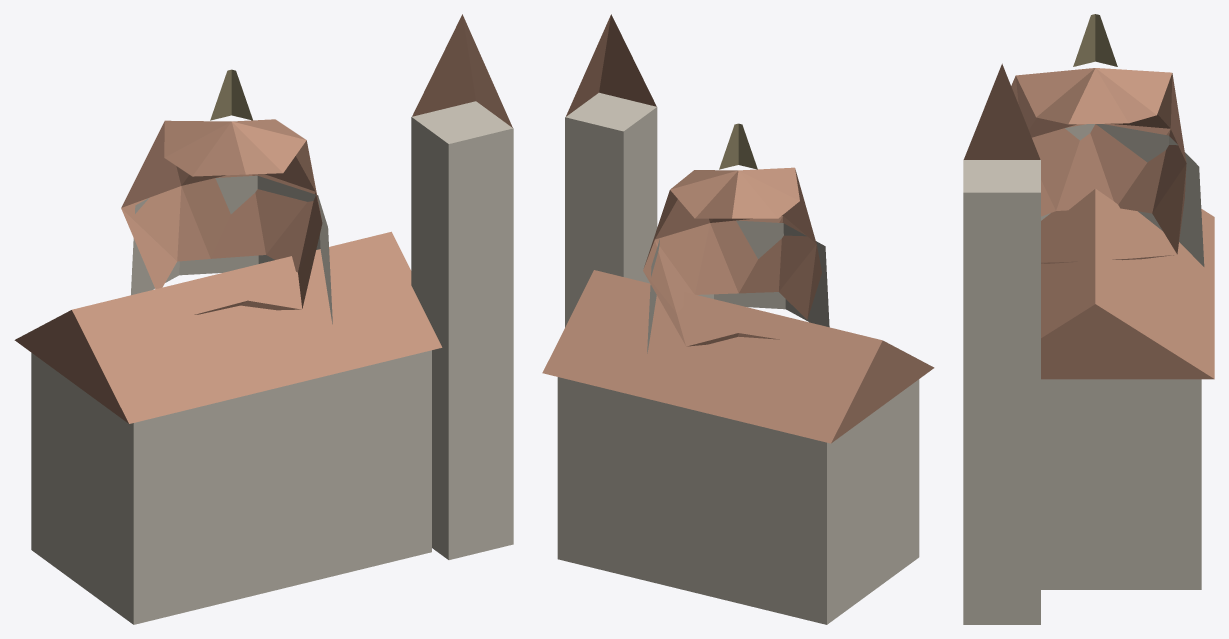
The model's file is bldg_med_basilica.glb.
3 views of the same model, side by side, from view 1: azimuth 30°, elevation 25°; view 2: azimuth 150°, elevation 25°; view 3: azimuth 270°, elevation 25° (orthographic). The views are drawn at different scales.
Bounding box in the file's own units: 1.75 × 2.32 × 0.97.
